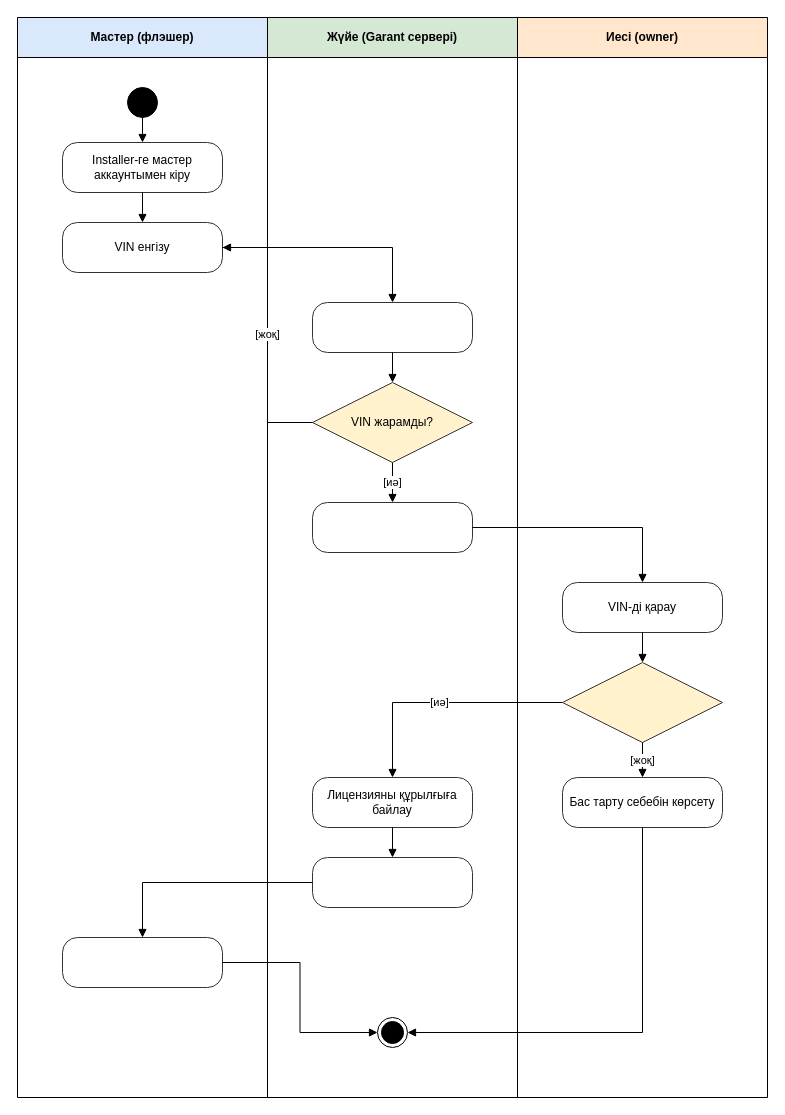
Some shapes in this 785 by 1115 pixel diagram are drawn without their labels. Each missing label, with the centre of its shape:
VIN форматын және базасын тексеру: [392,327]
Иесі растай ма?: [642,702]
Прошивканы құрылғыға орнату: [142,962]
Тапсырыс құру, иесіне растауға жіберу: [392,527]
Шифрланған прошивканы беру: [392,882]
